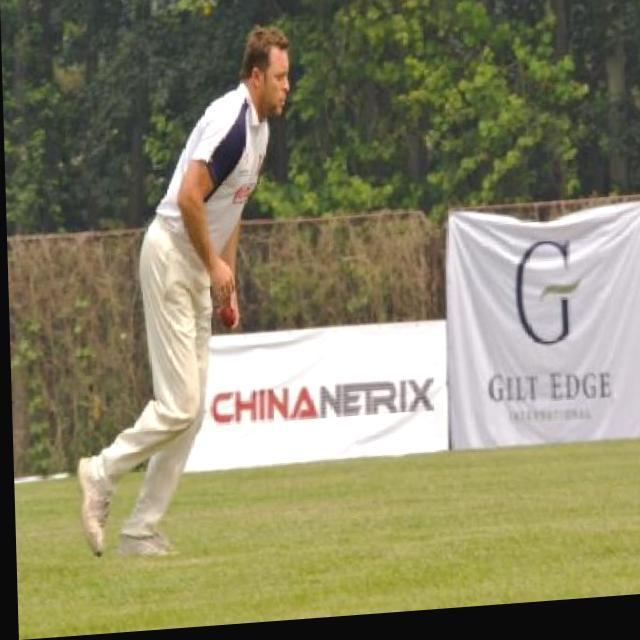-: (210, 304, 237, 345)
